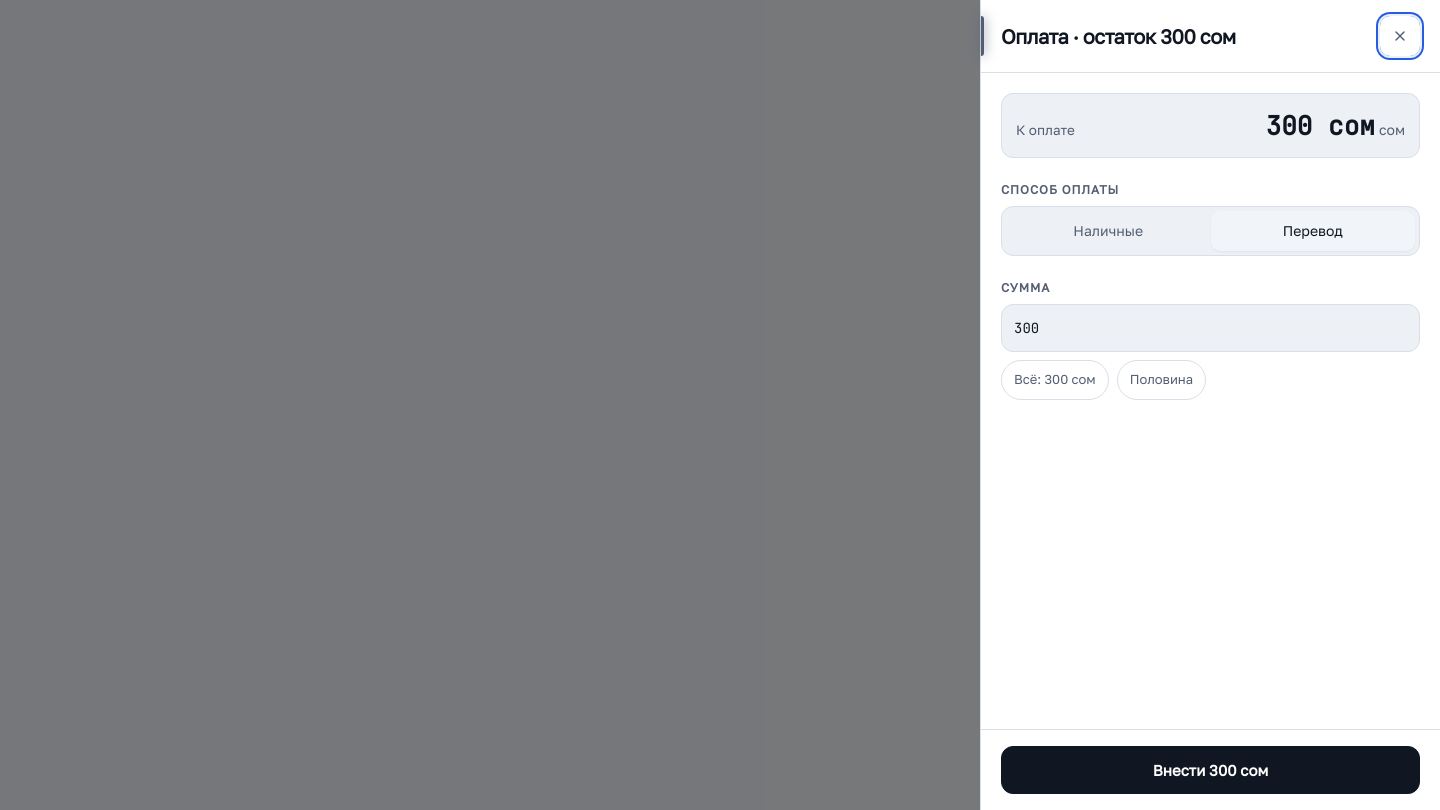
Test: an amount larger than the balance (a typo such as 5000 instead of 500) › can be corrected back to exactly the balance
Replace the text in the number field labelled "Сумма" with "5000": {"x": 1210, "y": 328} top-left (1001, 304), bottom-right (1420, 352)
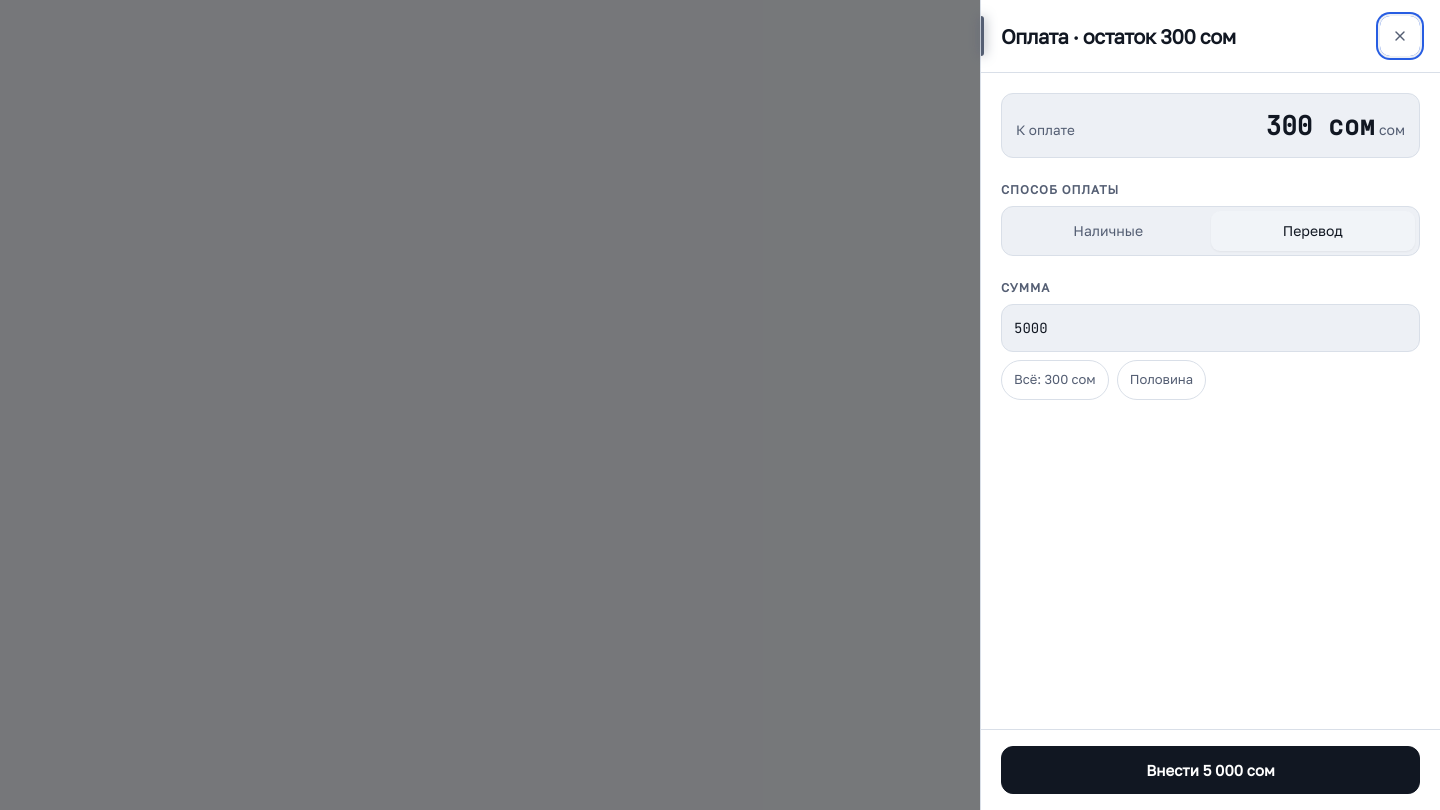
Click the button "Внести 5 000 сом": {"x": 1210, "y": 770} top-left (1001, 746), bottom-right (1420, 794)
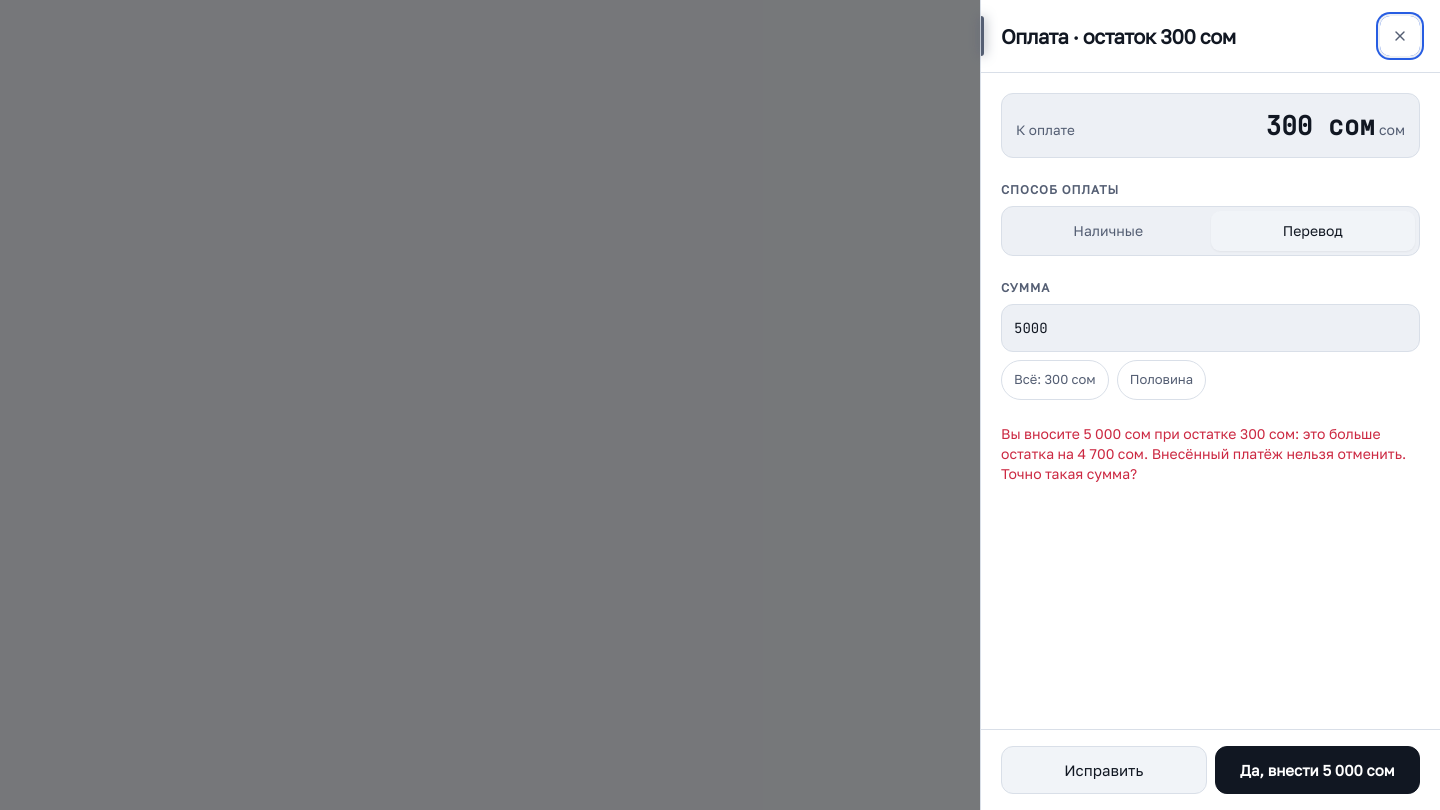
Click the button "Исправить": {"x": 1104, "y": 770} top-left (1001, 746), bottom-right (1206, 794)
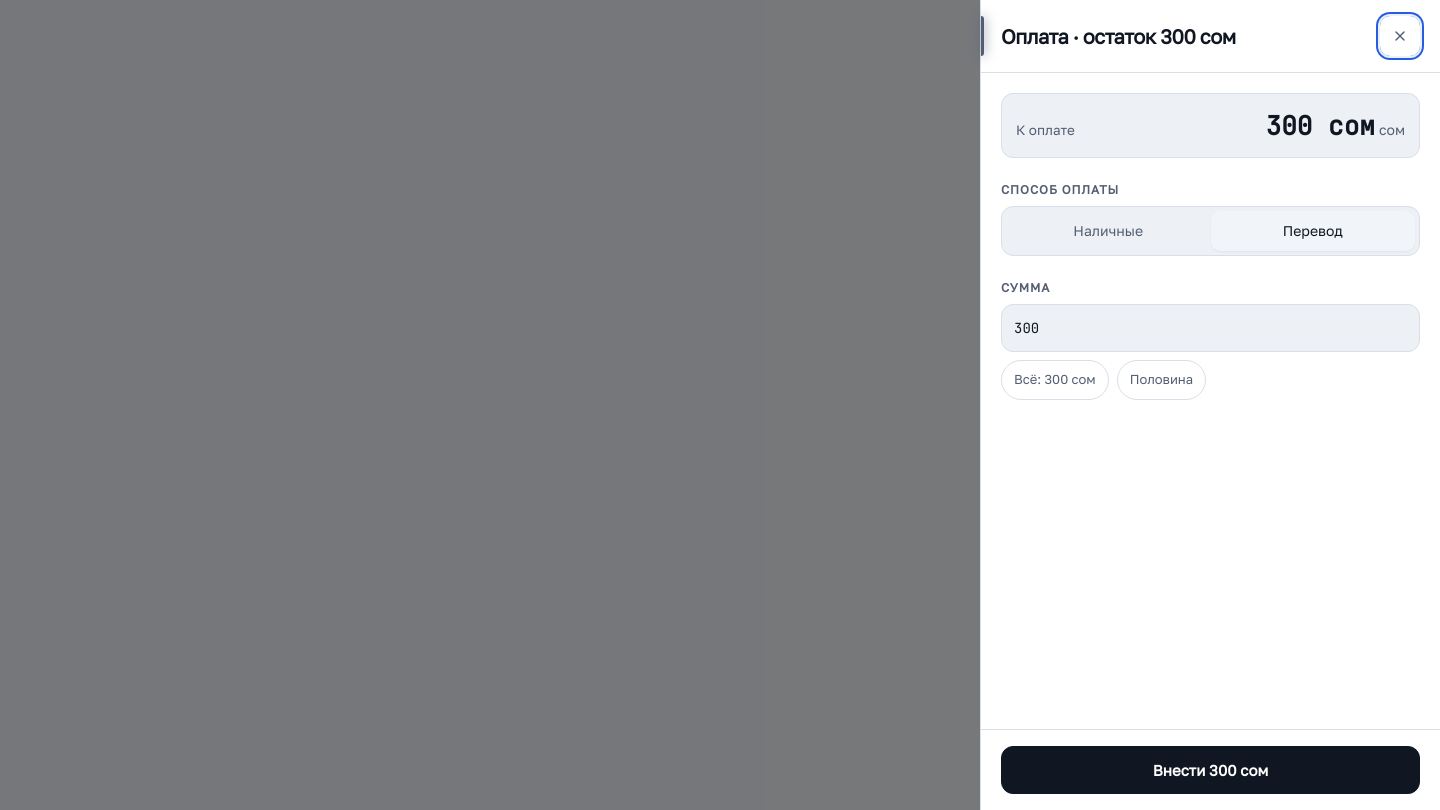
Result: the number field labelled "Сумма" holds "300" at top-left (1001, 304), bottom-right (1420, 352)
Result: the message is gone
